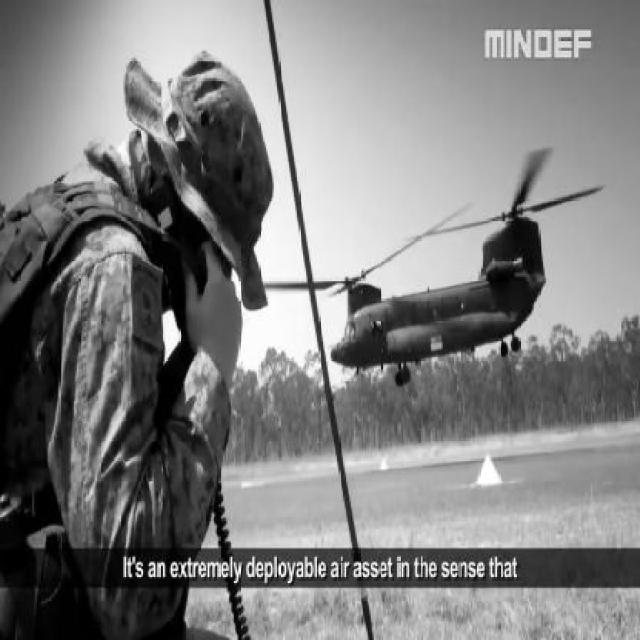Helicopter: (257, 146, 605, 391)
